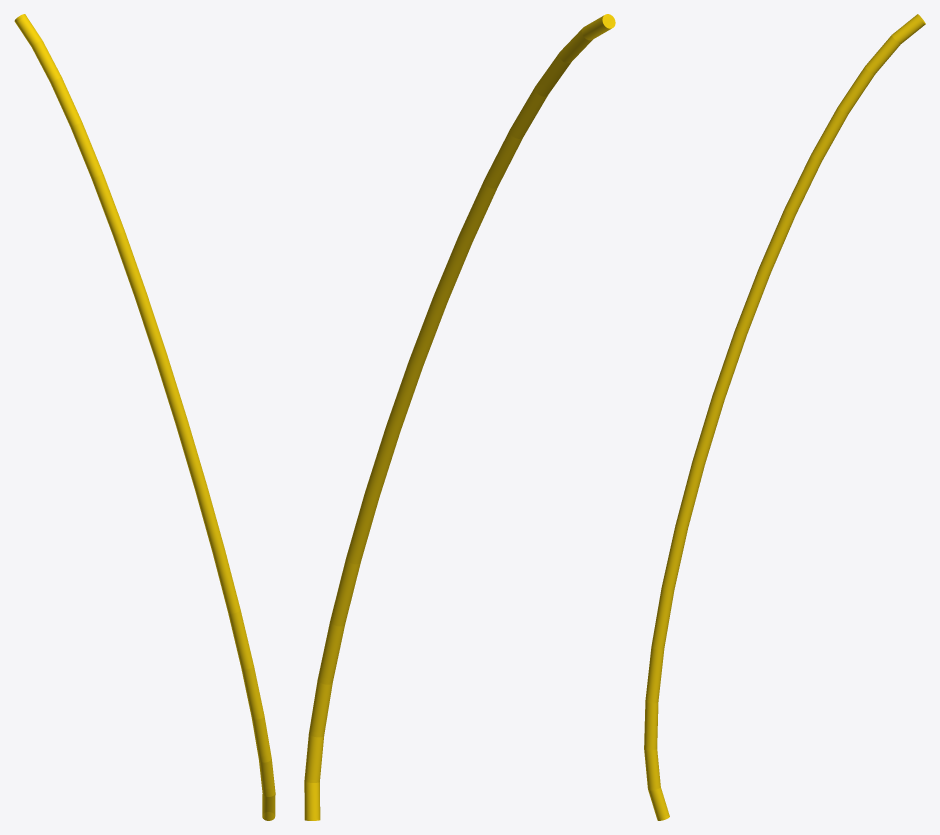
The model's file is Event_420094457_track_6.fbx.
The picture shows the model from 3 angles, left to right: view 1: azimuth 30°, elevation 25°; view 2: azimuth 210°, elevation 25°; view 3: azimuth 270°, elevation 25°; orthographic projection. The views are drawn at different scales.
Visible parts, largest first — view 1: Model; view 2: Model; view 3: Model.
Part boxes in pixels (box(x1,y1,x2,y2)): Model: box(14, 14, 275, 820); Model: box(304, 14, 615, 820); Model: box(644, 14, 925, 820).
Size of the model in its own units: 0.4671 by 2.51 by 0.8589.
